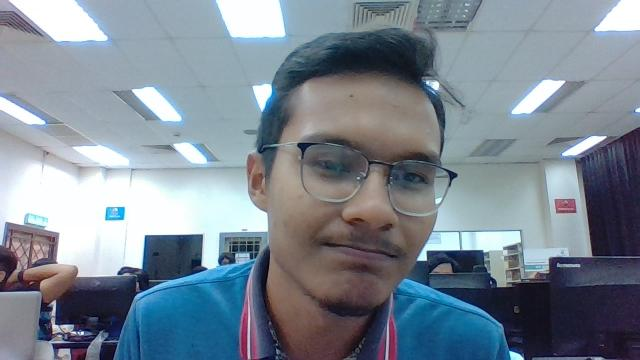senang: (240, 40, 465, 318)
